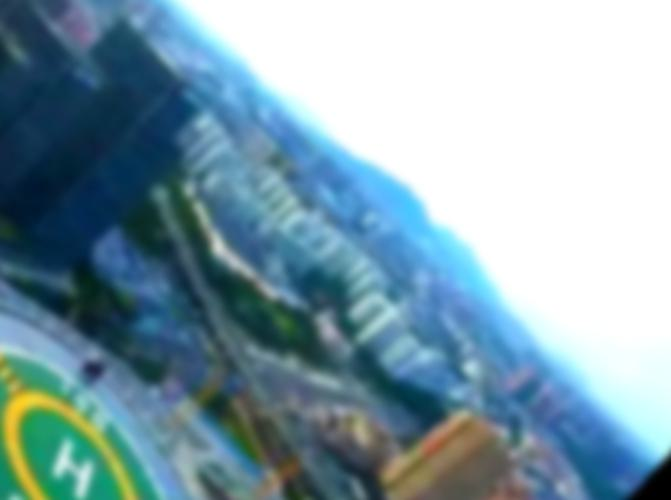Apron: (3, 382, 138, 500)
